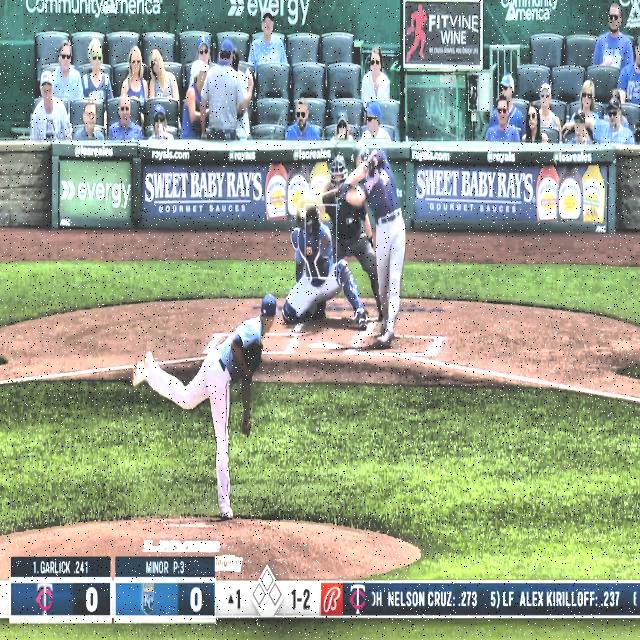baseball: (299, 208, 306, 220)
